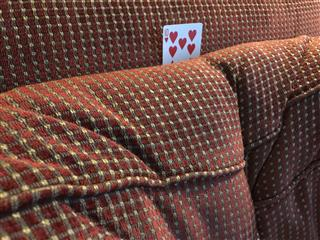TenOfHearts: (161, 21, 203, 64)
